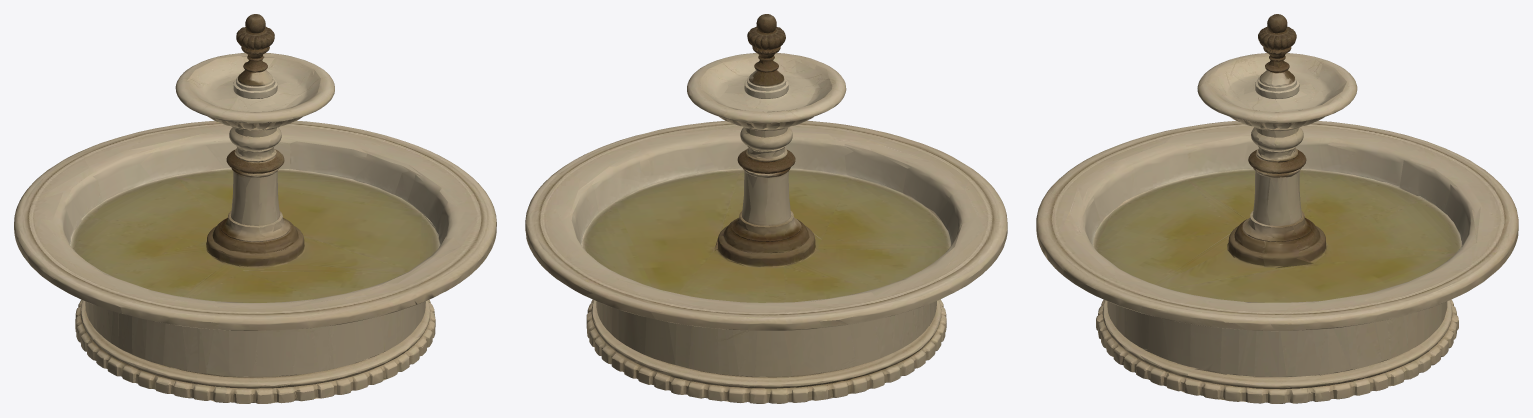
File: fountain.glb
3 views of the same model, side by side, from view 1: azimuth 30°, elevation 25°; view 2: azimuth 150°, elevation 25°; view 3: azimuth 270°, elevation 25° (orthographic).
Visible parts, largest first — view 1: fountain; view 2: fountain; view 3: fountain.
Part boxes in pixels (x1,y1,x2,y2): fountain: (14, 14, 496, 403); fountain: (525, 14, 1007, 403); fountain: (1036, 14, 1518, 403).
Size of the model in its own units: 2.6 by 1.86 by 2.6.
Materials: 1 (1 with a texture image).
